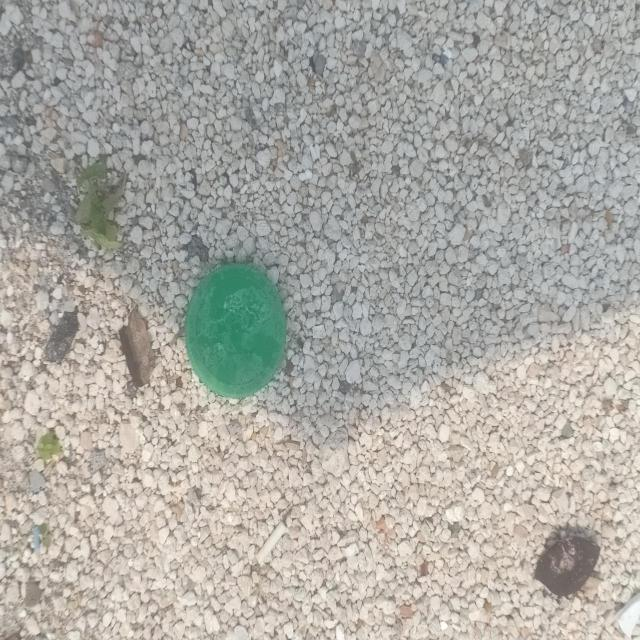plastic_waste: (184, 266, 288, 400)
